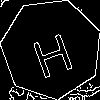H: (26, 24, 76, 79)
